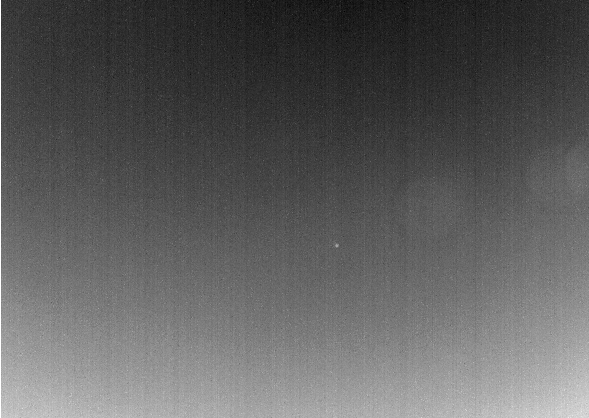dim target: (334, 242, 339, 248)
